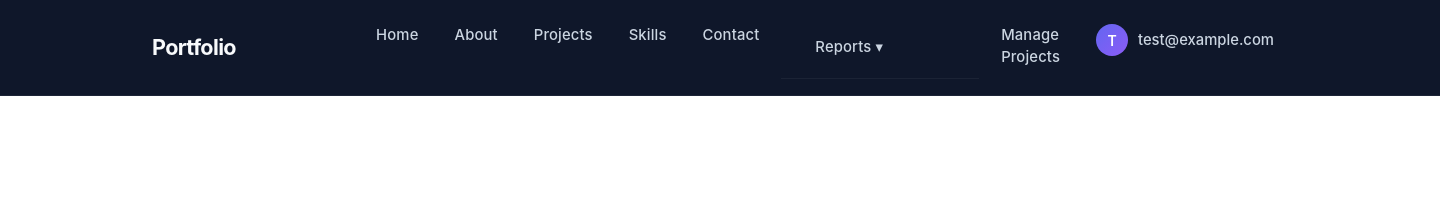
Scenario: Navbar › should toggle dropdown menu when user button is clicked
The width and height of the screenshot is (1440, 214).
Click the button "T test@example.com".
click(1185, 40)  # box left=1082, top=16, right=1288, bottom=64
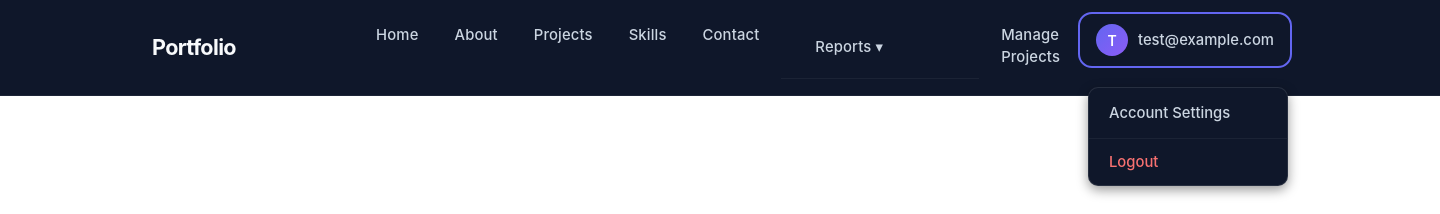
Expected: the link "Account Settings" is shown, left=1089, top=88, right=1287, bottom=139
Expected: the button "Logout" is shown, left=1089, top=139, right=1287, bottom=185
